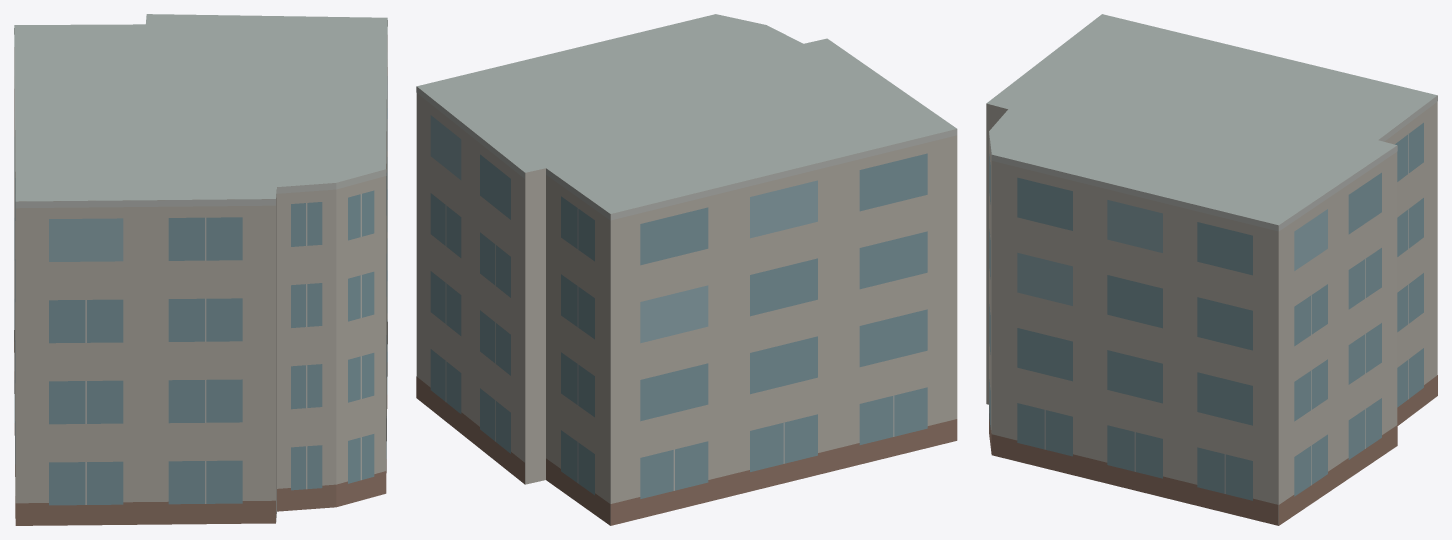
File: survey-upis-32494439.glb
The picture shows the model from 3 angles, left to right: view 1: azimuth 30°, elevation 25°; view 2: azimuth 150°, elevation 25°; view 3: azimuth 270°, elevation 25°; orthographic projection. The views are drawn at different scales.
Parts seen in each view (by area): view 1: survey-upis-32494439.tmp; view 2: survey-upis-32494439.tmp; view 3: survey-upis-32494439.tmp.
Boxes of the visible parts, x1=… form: survey-upis-32494439.tmp: x1=14, y1=14, x2=387, y2=525; survey-upis-32494439.tmp: x1=416, y1=14, x2=957, y2=525; survey-upis-32494439.tmp: x1=986, y1=14, x2=1437, y2=525.
Bounding box in the file's own units: 17.8 × 11.8 × 16.07.
